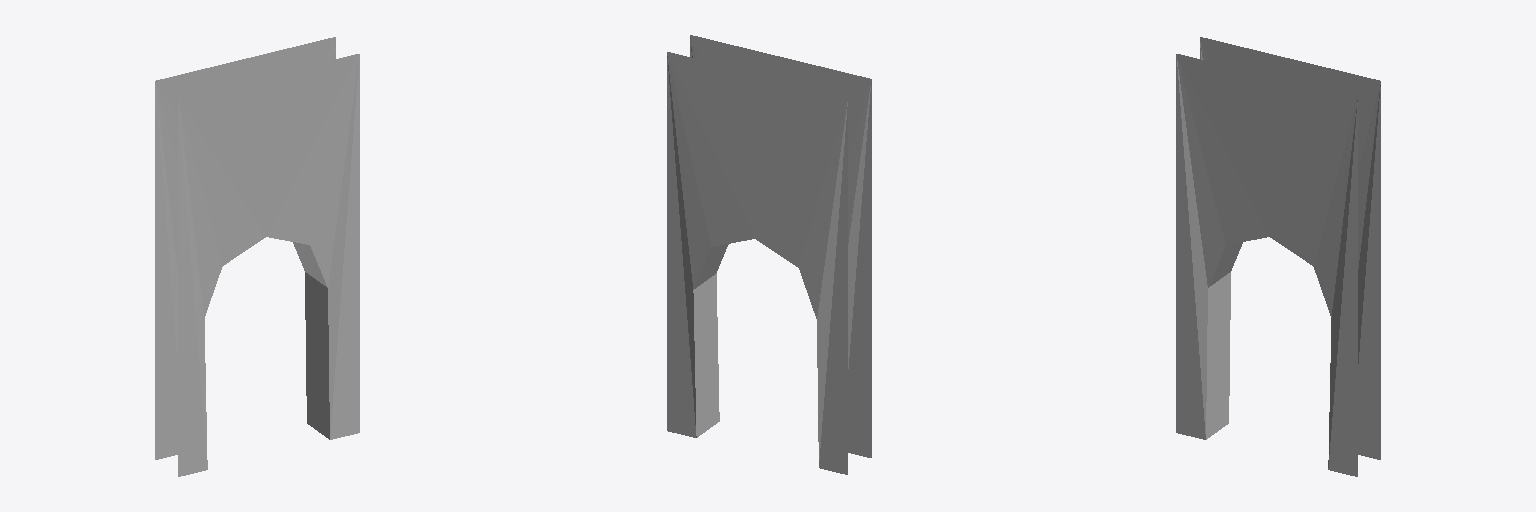
The model's file is Entrance_Wall_Col2.obj.
The picture shows the model from 3 angles: view 1: azimuth 30°, elevation 25°; view 2: azimuth 150°, elevation 25°; view 3: azimuth 330°, elevation 25°; orthographic projection.
Visible parts, largest first — view 1: Entrance_col; view 2: Entrance_col; view 3: Entrance_col.
Part boxes in pixels (left/top/right/bottom): Entrance_col: left=155, top=37, right=359, bottom=476; Entrance_col: left=667, top=35, right=871, bottom=474; Entrance_col: left=1176, top=37, right=1380, bottom=476.
Size of the model in its own units: 20 by 40 by 4.91.